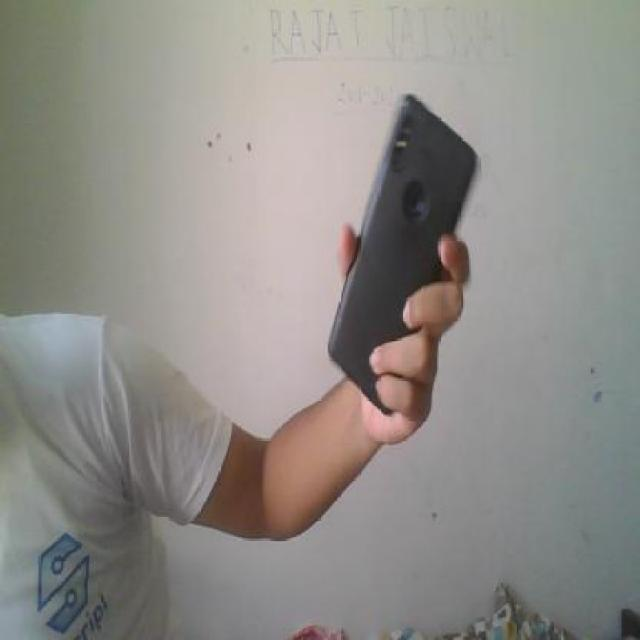Phone: (324, 87, 484, 417)
